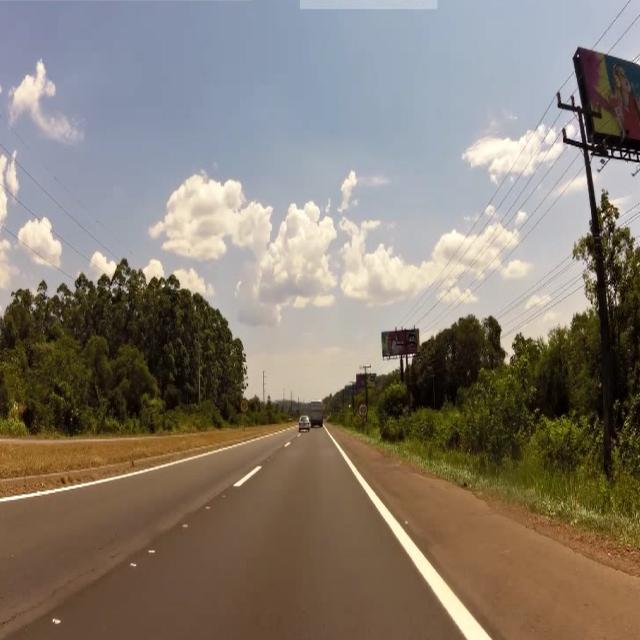R-19: (360, 403, 368, 419), (240, 399, 248, 413)
